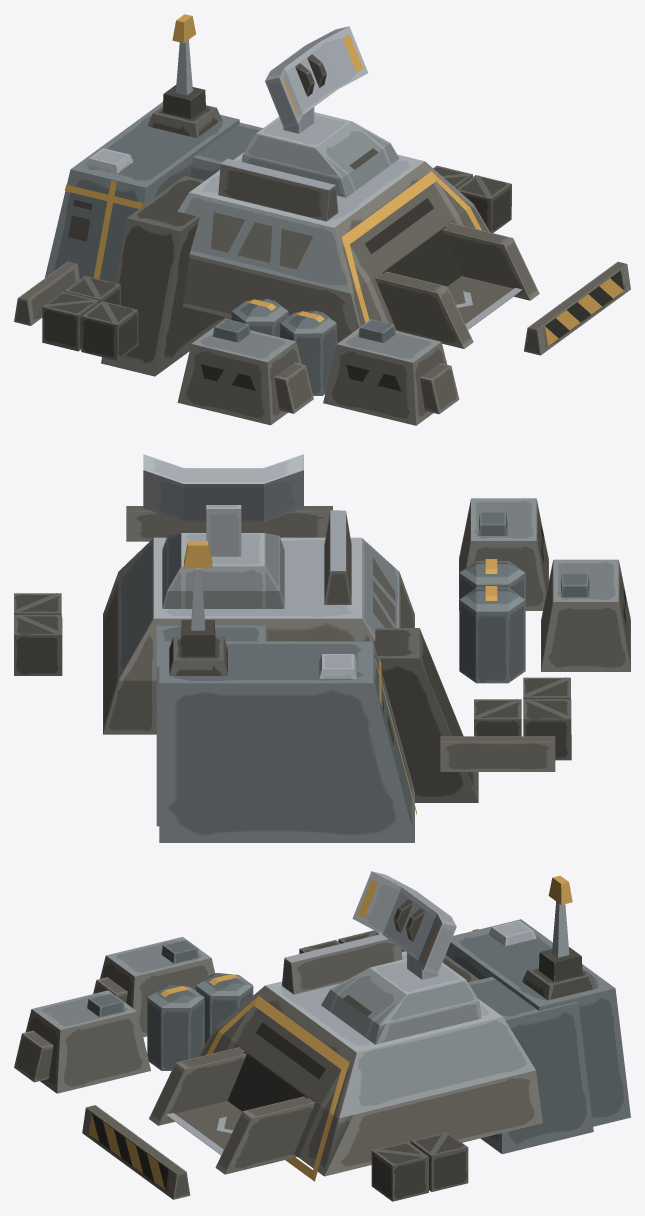
The model's file is outpost2.FBX.
3 views of the same model, one above another, from view 1: azimuth 30°, elevation 25°; view 2: azimuth 150°, elevation 25°; view 3: azimuth 270°, elevation 25° (orthographic). The views are drawn at different scales.
Parts seen in each view (by area): view 1: outpost2, a, b; view 2: outpost2, a, b; view 3: outpost2, a, b.
Boxes of the visible parts, left/top/right/bottom form: outpost2: left=14, top=14, right=630, bottom=425; a: left=265, top=26, right=367, bottom=133; b: left=86, top=148, right=133, bottom=173; outpost2: left=14, top=498, right=630, bottom=842; a: left=143, top=454, right=303, bottom=556; b: left=319, top=654, right=356, bottom=678; outpost2: left=14, top=875, right=630, bottom=1201; a: left=352, top=871, right=456, bottom=979; b: left=488, top=920, right=536, bottom=946.
Bounding box in the file's own units: 154 × 165 × 75.81.
